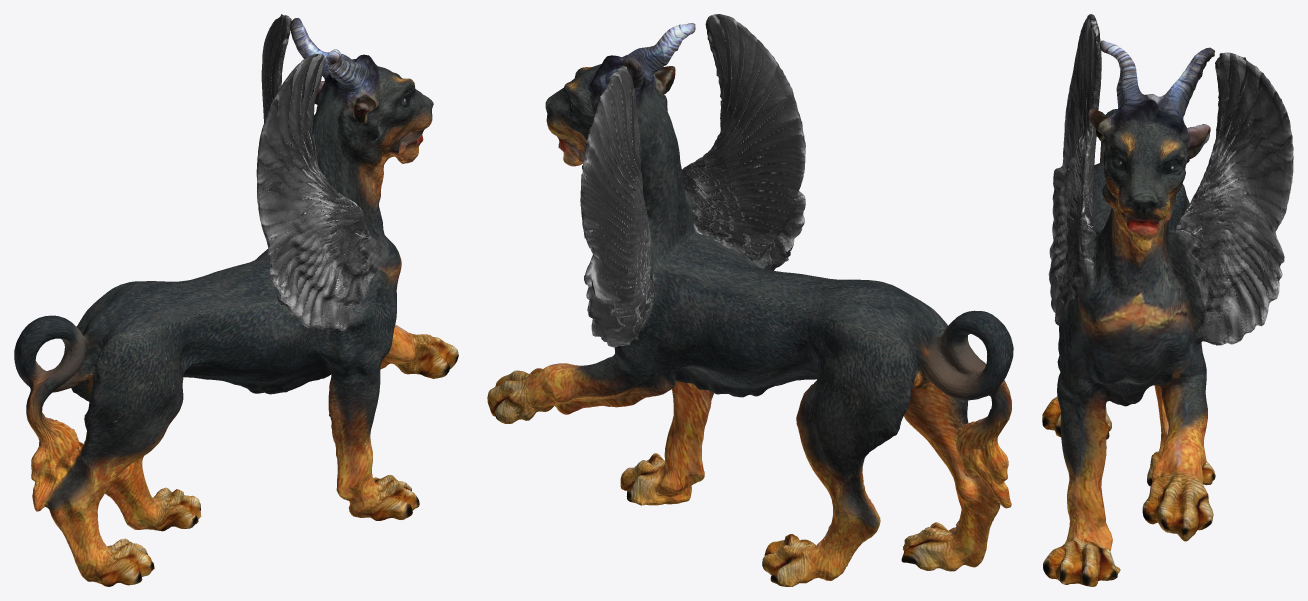
Rendered from feline.obj.
3 views of the same model, side by side, from view 1: azimuth 30°, elevation 25°; view 2: azimuth 150°, elevation 25°; view 3: azimuth 270°, elevation 25° (orthographic). The views are drawn at different scales.
Visible parts, largest first — view 1: object19, object23, object11, object10, object18, object14, object12, object26, object8, object13, object20, object3 (+8 smaller); view 2: object7, object22, object11, object0, object17, object21, object15, object26, object10, object12, object27, object4 (+8 smaller); view 3: object1, object8, object23, object10, object3, object21, object19, object6, object7, object16, object2, object9 (+7 smaller).
Boxes of the visible parts, bbox=[...] form: object19: bbox=[45, 269, 396, 576]; object23: bbox=[256, 53, 383, 331]; object11: bbox=[81, 85, 349, 374]; object10: bbox=[362, 66, 433, 152]; object18: bbox=[29, 376, 83, 511]; object14: bbox=[337, 100, 398, 241]; object12: bbox=[87, 359, 332, 394]; object26: bbox=[14, 315, 81, 392]; object8: bbox=[361, 145, 419, 326]; object13: bbox=[88, 377, 160, 529]; object20: bbox=[93, 538, 154, 586]; object3: bbox=[298, 18, 380, 124]; object7: bbox=[527, 273, 917, 580]; object22: bbox=[682, 14, 805, 270]; object11: bbox=[636, 89, 937, 373]; object0: bbox=[580, 67, 654, 346]; object17: bbox=[904, 381, 998, 563]; object21: bbox=[654, 380, 709, 504]; object15: bbox=[956, 383, 1011, 508]; object26: bbox=[943, 310, 1013, 400]; object10: bbox=[545, 64, 601, 162]; object12: bbox=[674, 363, 928, 397]; object27: bbox=[917, 329, 985, 399]; object4: bbox=[762, 534, 816, 586]; object1: bbox=[1175, 52, 1293, 345]; object8: bbox=[1068, 207, 1200, 389]; object23: bbox=[1048, 14, 1100, 322]; object10: bbox=[1102, 119, 1189, 236]; object3: bbox=[1088, 41, 1214, 159]; object21: bbox=[1068, 386, 1112, 550]; object19: bbox=[1055, 299, 1088, 540]; object6: bbox=[1142, 470, 1213, 536]; object7: bbox=[1169, 184, 1207, 483]; object16: bbox=[1043, 536, 1120, 586]; object2: bbox=[1162, 159, 1215, 344]; object9: bbox=[1152, 374, 1185, 481].
Size of the model in its own units: 500 by 486 by 212.
Materials: 1 (1 with a texture image).
